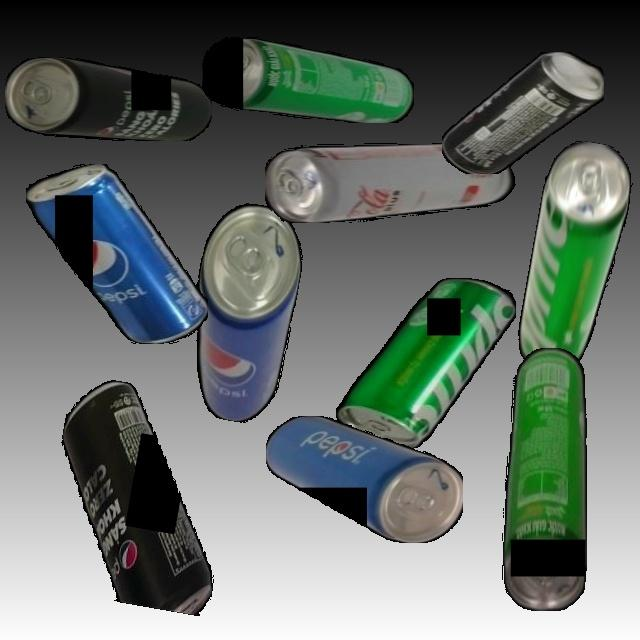debris: (36, 374, 245, 617), (25, 164, 208, 344), (175, 197, 311, 428), (335, 278, 516, 449), (513, 136, 638, 378), (265, 416, 463, 543), (501, 347, 587, 611), (265, 142, 518, 223), (442, 51, 604, 174), (202, 36, 414, 123), (5, 56, 212, 141)
